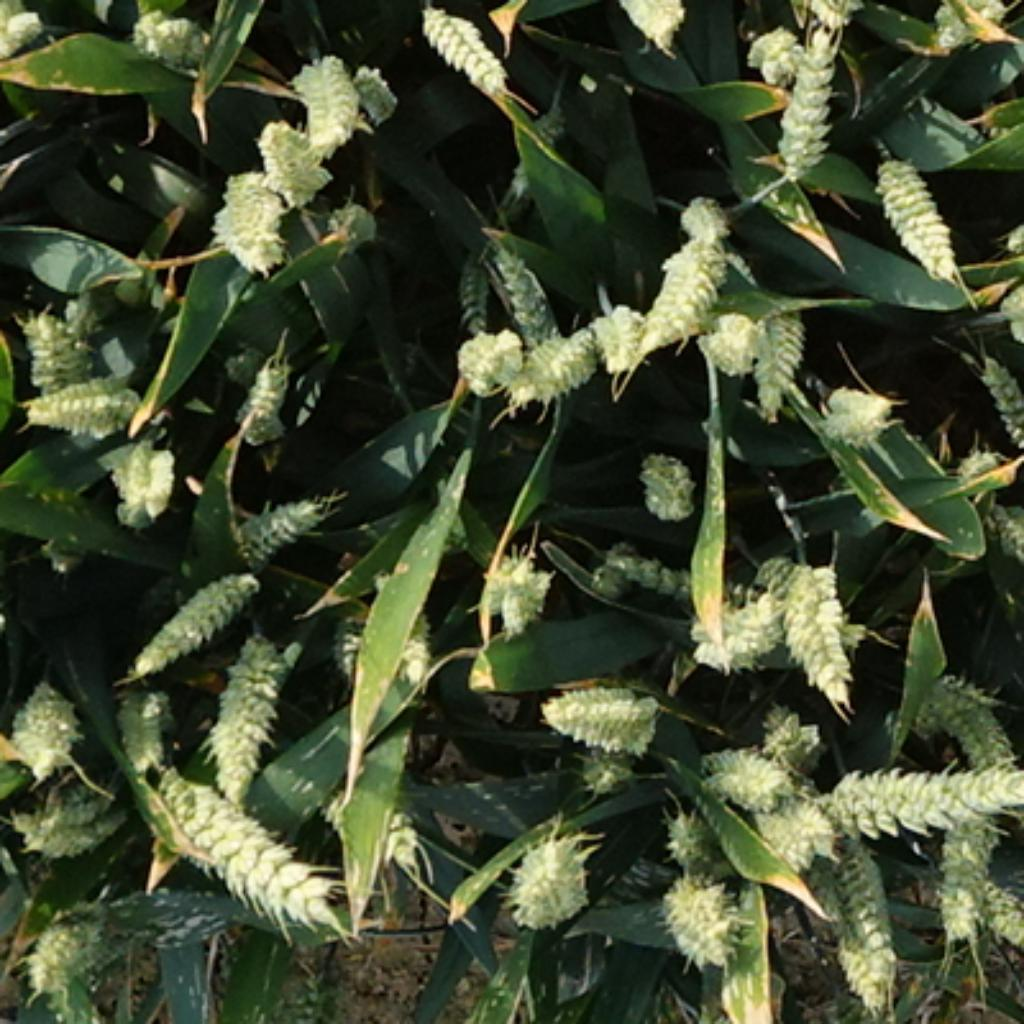0-0: (143, 762, 348, 921), (816, 747, 1024, 829), (204, 622, 291, 808), (808, 834, 898, 1008), (130, 552, 261, 665), (780, 547, 865, 711), (768, 20, 849, 186), (872, 156, 975, 286), (309, 773, 435, 872), (637, 209, 734, 332), (911, 660, 1016, 773), (757, 552, 872, 640), (537, 670, 663, 750), (15, 770, 130, 855), (501, 819, 593, 921), (686, 581, 788, 673), (926, 814, 1000, 936), (207, 156, 289, 266), (583, 532, 698, 609), (17, 368, 145, 437), (412, 0, 512, 87), (506, 312, 606, 399), (227, 483, 327, 563), (658, 878, 742, 973), (286, 43, 363, 145), (483, 238, 563, 335), (5, 668, 81, 770), (17, 906, 99, 1000), (737, 291, 808, 396), (473, 537, 552, 629), (99, 435, 176, 524), (17, 296, 89, 389), (896, 668, 993, 734), (698, 734, 788, 803), (230, 343, 296, 437), (253, 112, 327, 194), (732, 15, 819, 84), (453, 317, 535, 389), (514, 99, 570, 204), (125, 0, 215, 64), (632, 437, 701, 519), (811, 373, 893, 442), (970, 481, 1024, 583), (611, 0, 702, 60), (972, 345, 1024, 450), (117, 688, 176, 773), (755, 785, 826, 855), (970, 872, 1024, 954), (921, 0, 1013, 48), (757, 696, 824, 760), (696, 302, 760, 368), (588, 294, 645, 368), (665, 801, 729, 865), (343, 48, 396, 117), (58, 281, 115, 343), (332, 604, 371, 691), (576, 737, 642, 788), (396, 611, 437, 693), (455, 245, 488, 337), (322, 192, 381, 243), (670, 189, 729, 240), (947, 437, 1008, 483)
